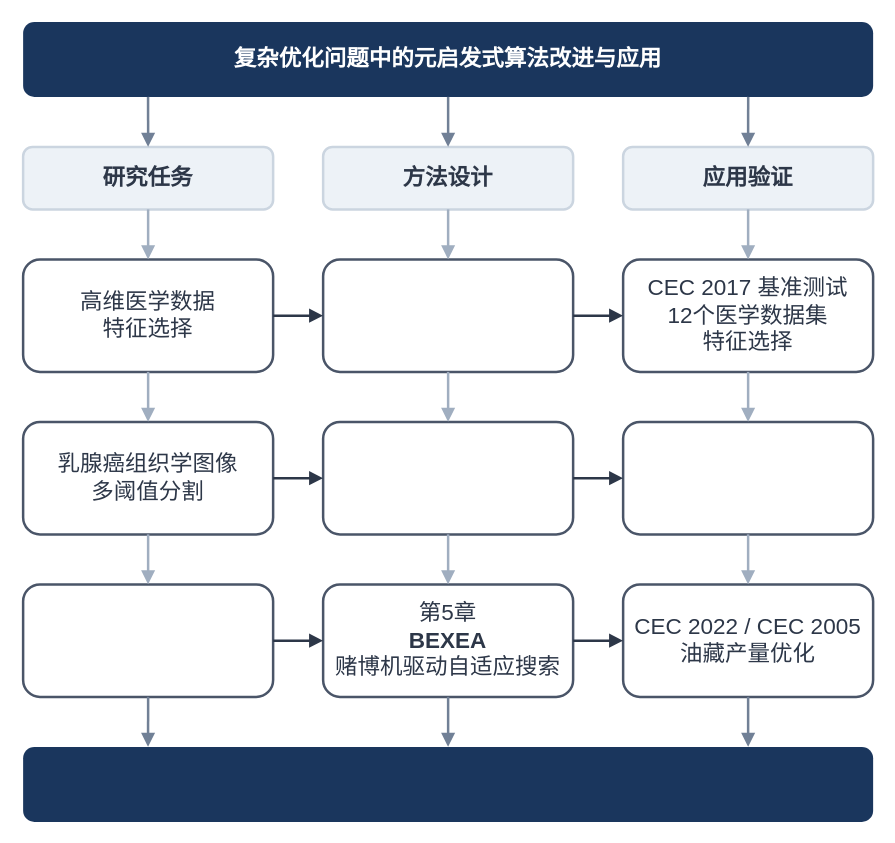
Some shapes in this 895 by 843 pixel diagram are drawn without their labels. Each missing label, with the centre of its shape:
"CEC 2017 基准验证 6/12/18阈值 图像分割" goes at point (747, 477).
"研究目标：提升复杂优化任务中的搜索精度、稳健性与样本效率" goes at point (447, 783).
"第3章 IBSA / bIBSA 精英引导变异策略" goes at point (447, 315).
"第4章 SBO 状态驱动搜索机制" goes at point (447, 477).
"高成本黑盒函数 昂贵优化" goes at point (147, 640).
